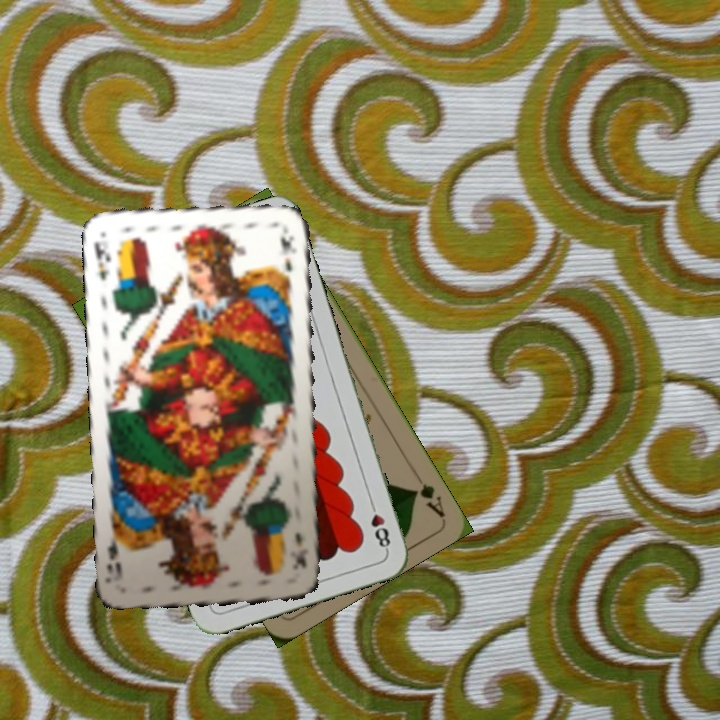EK: (90, 237, 113, 284), (289, 528, 310, 573)
GA: (408, 479, 448, 520)
H8: (365, 495, 393, 553)
